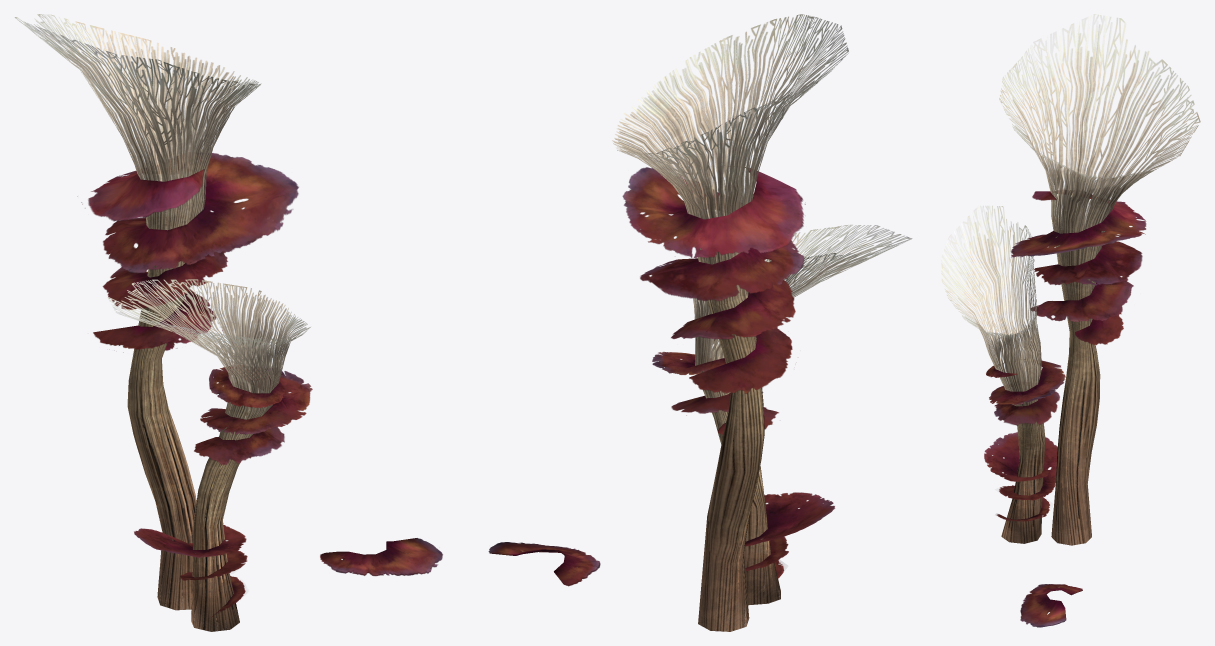
Rendered from spiral_plant.glb.
3 views of the same model, side by side, from view 1: azimuth 30°, elevation 25°; view 2: azimuth 150°, elevation 25°; view 3: azimuth 270°, elevation 25° (orthographic). The views are drawn at different scales.
Visible parts, largest first — view 1: generic_plant_02_geo, generic_plant_02_chunk_LOD0; view 2: generic_plant_02_geo, generic_plant_02_chunk_LOD0; view 3: generic_plant_02_geo, generic_plant_02_chunk_LOD0.
Part boxes in pixels (box(x1,y1,x2,y2)): generic_plant_02_geo: box(14, 14, 312, 631); generic_plant_02_chunk_LOD0: box(320, 538, 442, 576); generic_plant_02_geo: box(612, 14, 912, 631); generic_plant_02_chunk_LOD0: box(488, 542, 600, 586); generic_plant_02_geo: box(941, 14, 1200, 545); generic_plant_02_chunk_LOD0: box(1020, 584, 1082, 627).
Bounding box in the file's own units: 0.0058 × 0.00869 × 0.00431.
2 materials, 2 textured.
